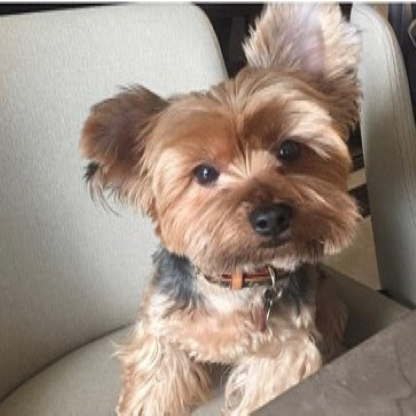yorkshire: (73, 2, 362, 413)
